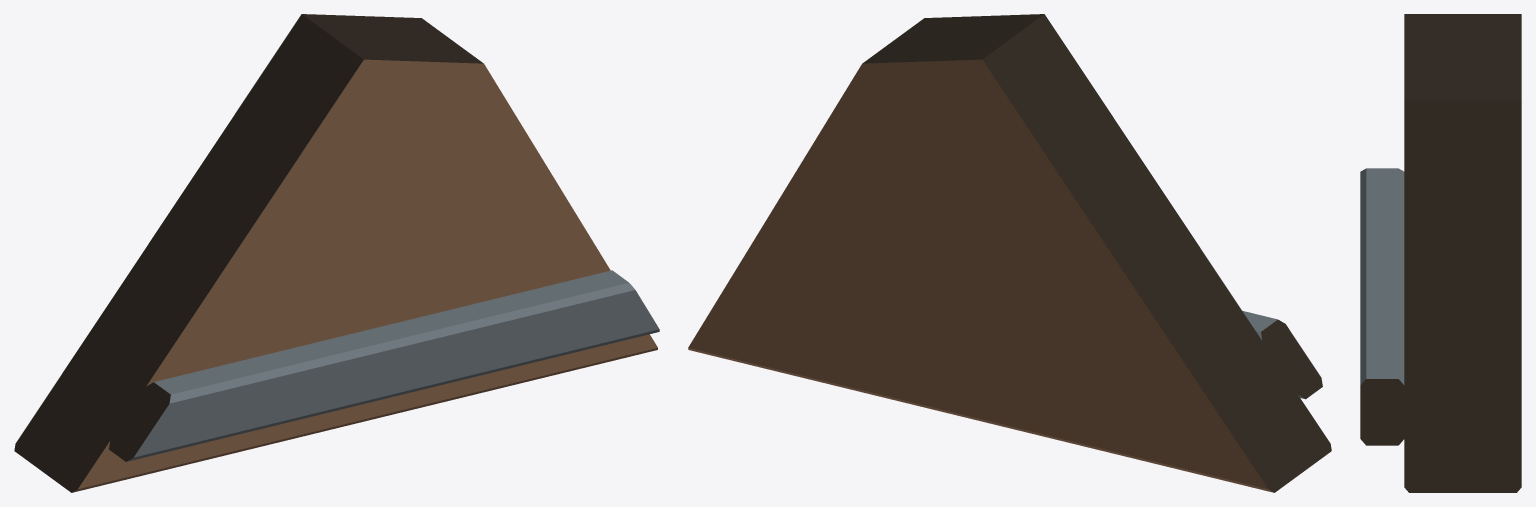
File: SM_DoorShard_03_41.fbx
3 views of the same model, side by side, from view 1: azimuth 30°, elevation 25°; view 2: azimuth 150°, elevation 25°; view 3: azimuth 270°, elevation 25° (orthographic). The views are drawn at different scales.
Parts seen in each view (by area): view 1: SM_DoorShard_03_41; view 2: SM_DoorShard_03_41; view 3: SM_DoorShard_03_41.
Boxes of the visible parts, box(x1,y1,x2,y2) form: SM_DoorShard_03_41: box(14, 14, 659, 492); SM_DoorShard_03_41: box(688, 14, 1331, 492); SM_DoorShard_03_41: box(1360, 14, 1521, 492).
Size of the model in its own units: 86.98 by 22 by 51.67.
